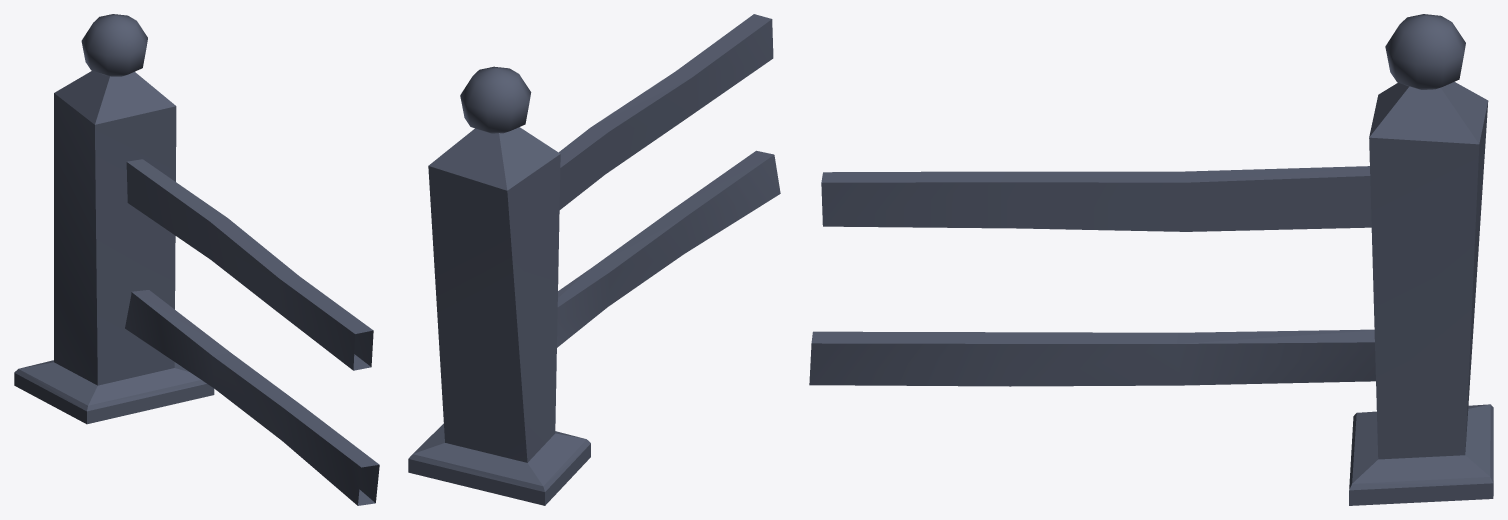
Rendered from FencePieceDoor.FBX.
3 renders of one model, left to right at view 1: azimuth 30°, elevation 25°; view 2: azimuth 150°, elevation 25°; view 3: azimuth 270°, elevation 25°, orthographic. The views are drawn at different scales.
Parts seen in each view (by area): view 1: FencePieceDoor; view 2: FencePieceDoor; view 3: FencePieceDoor.
Boxes of the visible parts, <box> form: FencePieceDoor: <box>14,14,379,505</box>; FencePieceDoor: <box>408,14,780,505</box>; FencePieceDoor: <box>809,14,1493,505</box>.
Bounding box in the file's own units: 62 × 157 × 216.
